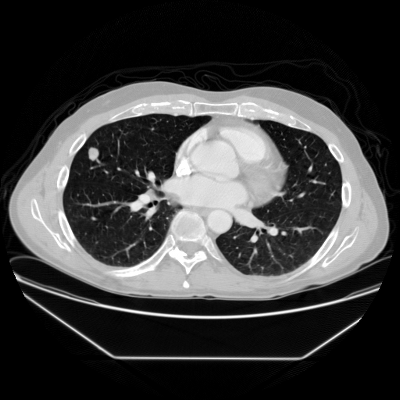nodule: (87, 147, 99, 159)
